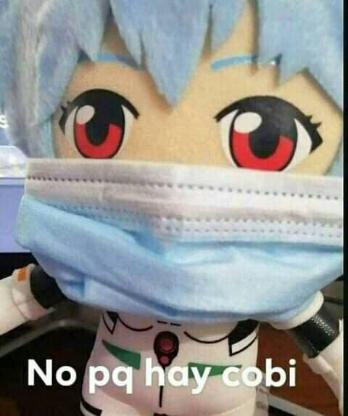rei-plush: (0, 0, 346, 416)
